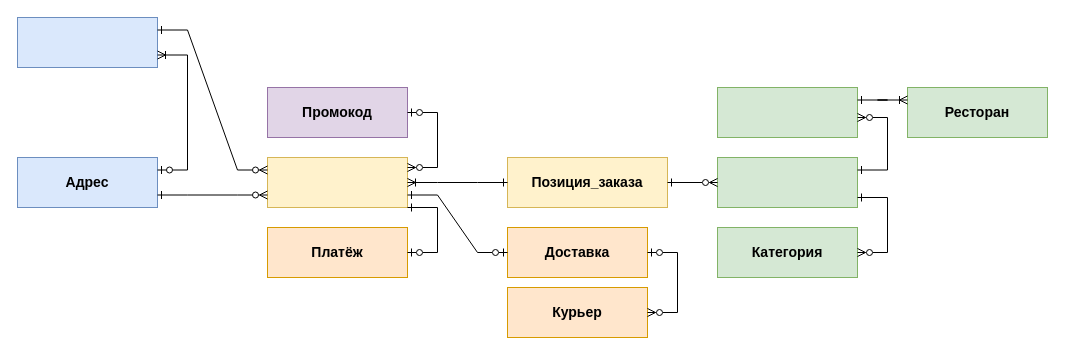
Image size: 1065x355. Some labels were removed from this diagram. Each missing label, with the centre of its shape:
Блюдо: the point at 787,182
Заказ: the point at 337,182
Клиент: the point at 87,42
Меню: the point at 787,112
